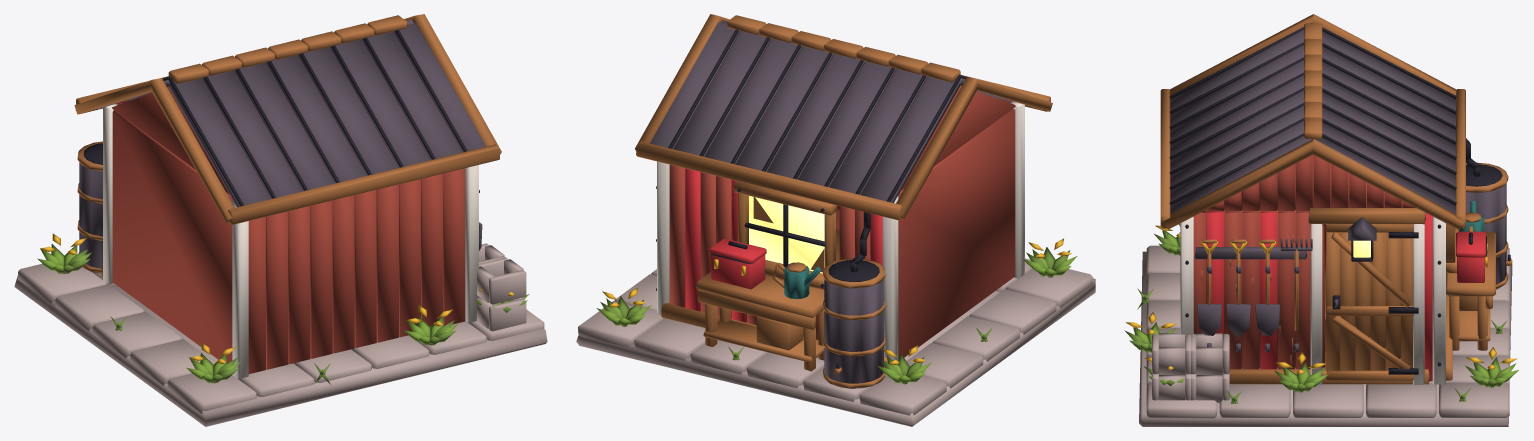
The picture shows the model from 3 angles, left to right: view 1: azimuth 30°, elevation 25°; view 2: azimuth 150°, elevation 25°; view 3: azimuth 270°, elevation 25°; orthographic projection. The views are drawn at different scales.
Visible parts, largest first — view 1: body, roof; view 2: body, roof, emitter:window_side:10; view 3: body, roof, door_main, emitter:root:16.
Boxes of the visible parts, x1,y1,x2,y2 form: body: (14, 86, 547, 426); roof: (74, 14, 501, 224); body: (576, 85, 1095, 426); roof: (635, 14, 1052, 220); emitter:window_side:10: (749, 196, 824, 273); body: (1124, 138, 1518, 426); roof: (1160, 14, 1465, 229); door_main: (1325, 224, 1418, 380); emitter:root:16: (1347, 217, 1376, 261).
Size of the model in its own units: 4.7 by 3.57 by 4.76.
